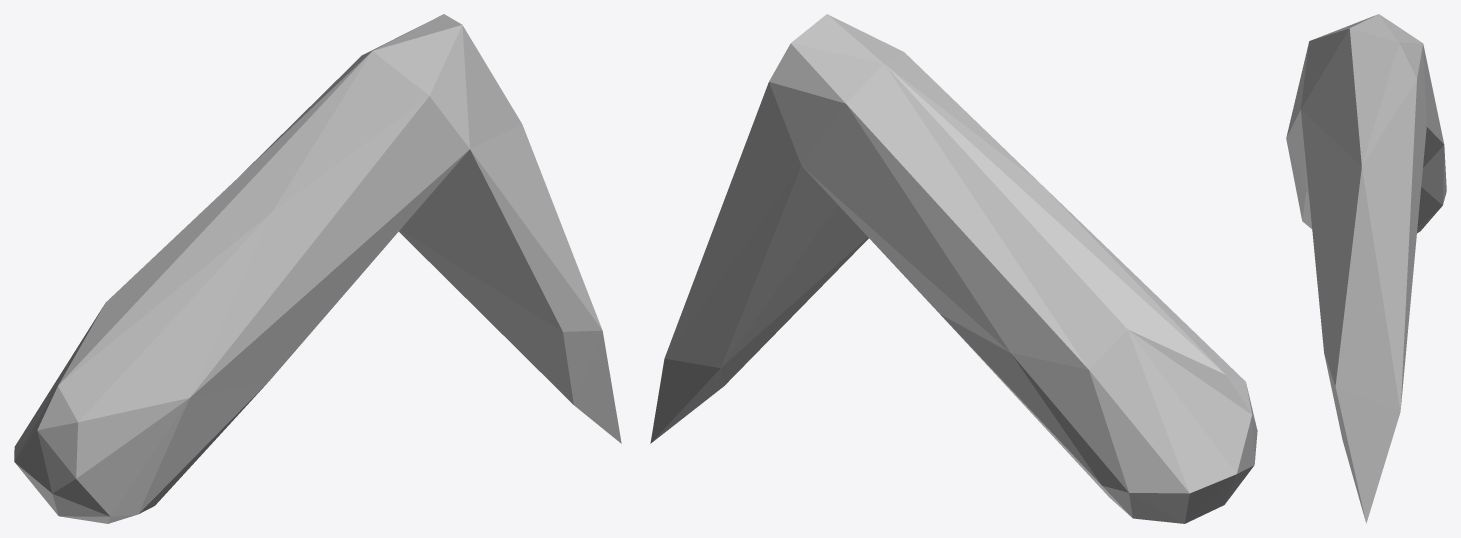
Rendered from animal_megaspider_blob_leg.obj.
3 views of the same model, side by side, from view 1: azimuth 30°, elevation 25°; view 2: azimuth 150°, elevation 25°; view 3: azimuth 270°, elevation 25° (orthographic). The views are drawn at different scales.
Visible parts, largest first — view 1: animal_megaspider_leg; view 2: animal_megaspider_leg; view 3: animal_megaspider_leg.
Part boxes in pixels (box(x1,y1,x2,y2)): animal_megaspider_leg: box(14, 14, 621, 523); animal_megaspider_leg: box(650, 14, 1257, 523); animal_megaspider_leg: box(1286, 14, 1446, 523).
Bounding box in the file's own units: 0.4575 × 0.341 × 0.1178.
